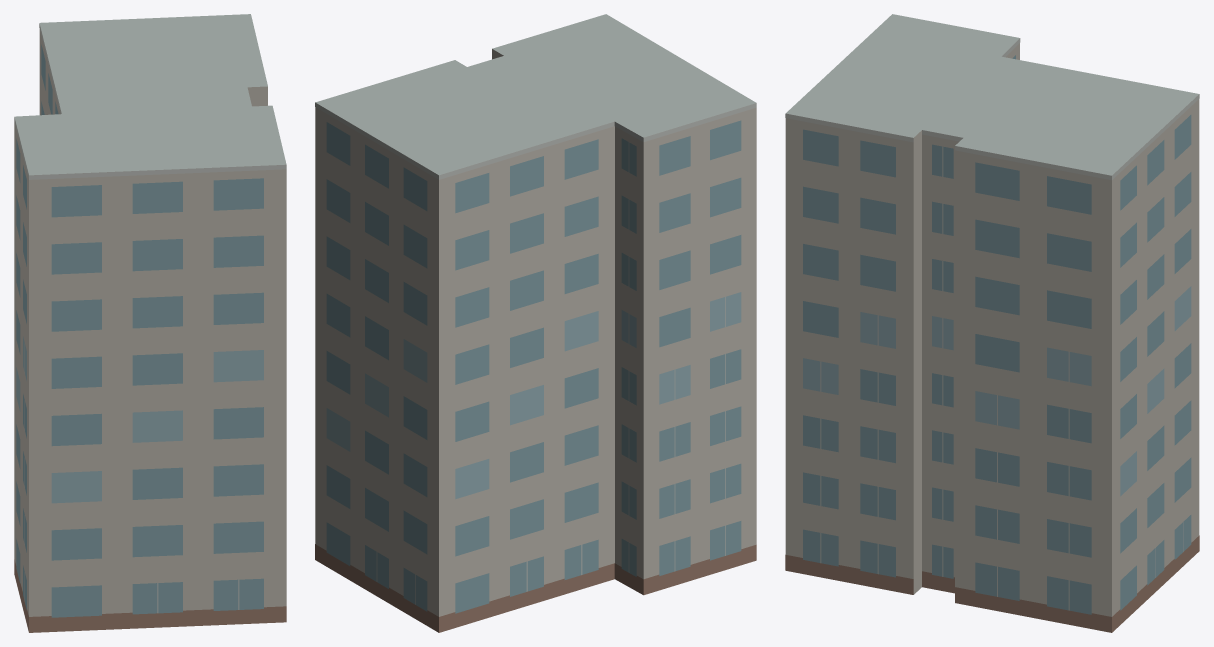
The model's file is survey-upis-32680241.glb.
3 renders of one model, left to right at view 1: azimuth 30°, elevation 25°; view 2: azimuth 150°, elevation 25°; view 3: azimuth 270°, elevation 25°, orthographic.
Parts seen in each view (by area): view 1: survey-upis-32680241.tmp; view 2: survey-upis-32680241.tmp; view 3: survey-upis-32680241.tmp.
Boxes of the visible parts, box(x1,y1,x2,y2) form: survey-upis-32680241.tmp: box(14, 14, 286, 632); survey-upis-32680241.tmp: box(315, 14, 756, 632); survey-upis-32680241.tmp: box(785, 14, 1199, 632).
Size of the model in its own units: 18.52 by 24.4 by 20.03.
